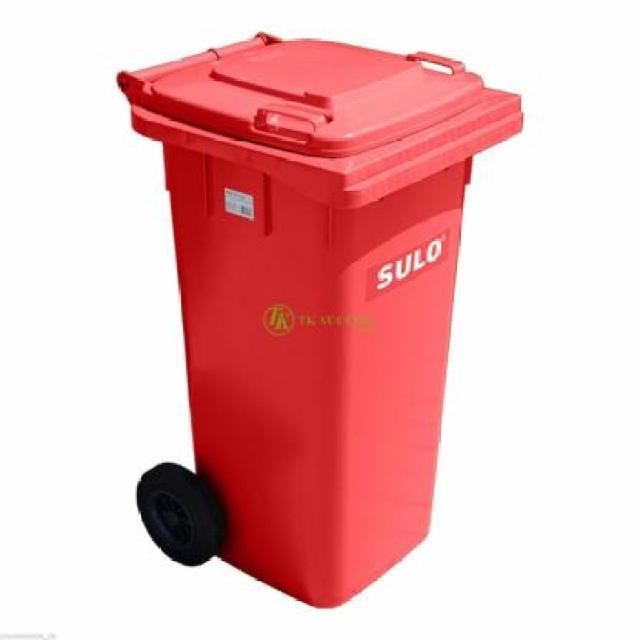garbage container: (104, 26, 547, 622)
